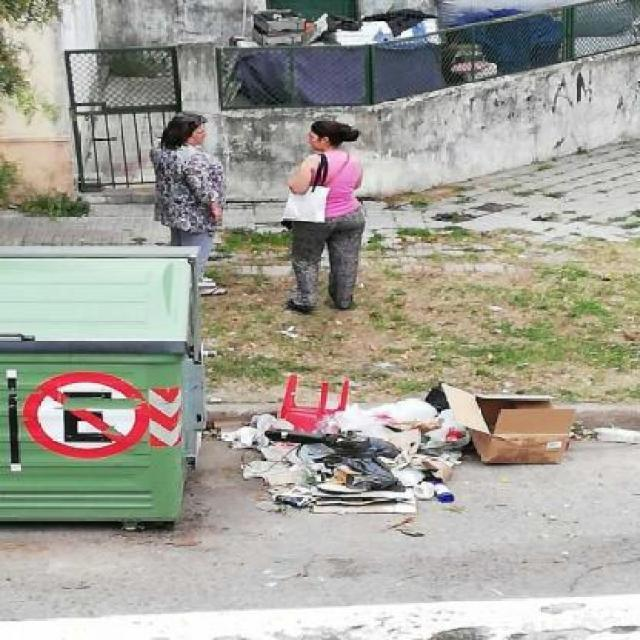garbage: (180, 372, 538, 543), (257, 322, 502, 380)
